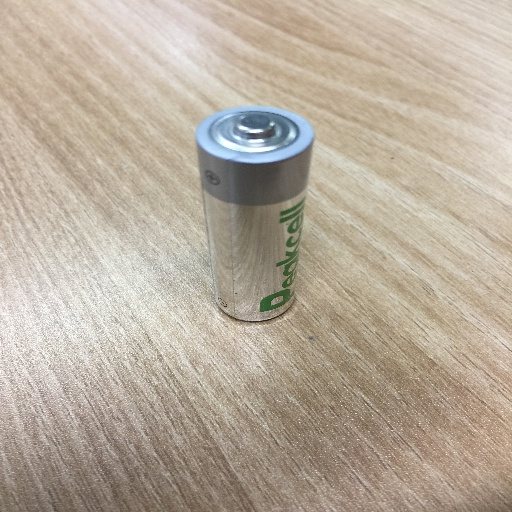Battery_0: (185, 95, 326, 327)
